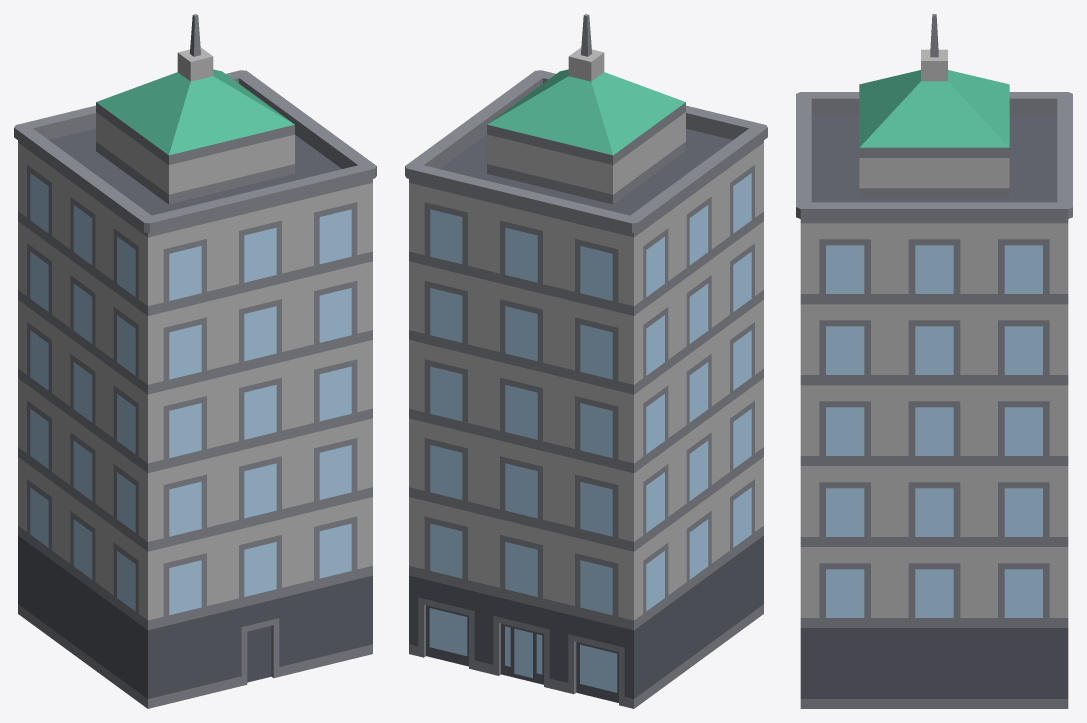
Rendered from skyscraperE.obj.
3 views of the same model, side by side, from view 1: azimuth 30°, elevation 25°; view 2: azimuth 150°, elevation 25°; view 3: azimuth 270°, elevation 25° (orthographic). The views are drawn at different scales.
Visible parts, largest first — view 1: skyscraperE; view 2: skyscraperE; view 3: skyscraperE.
Boxes of the visible parts, <box> form: skyscraperE: <box>14,14,376,708</box>; skyscraperE: <box>405,14,767,708</box>; skyscraperE: <box>796,14,1072,708</box>.
Bounding box in the file's own units: 1.24 × 3.15 × 1.24.
